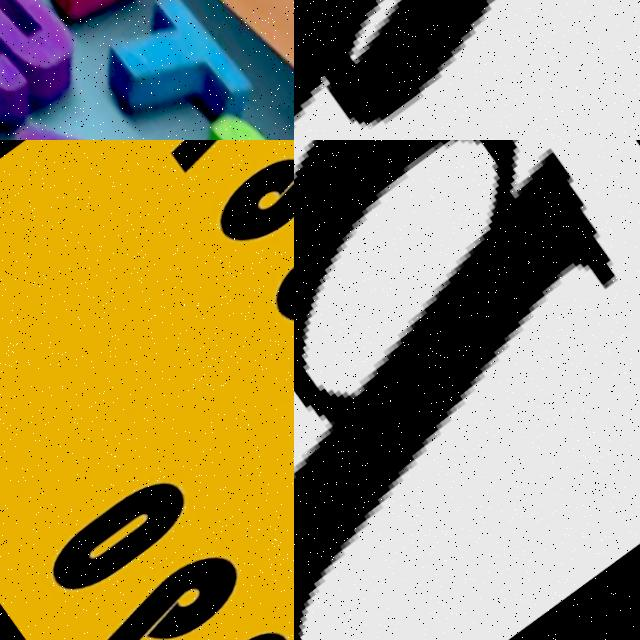0: (29, 432, 245, 620)
5: (247, 160, 294, 339)
6: (190, 140, 294, 273)
7: (132, 140, 294, 201)
8: (134, 580, 294, 640)
9: (294, 0, 640, 140), (79, 513, 290, 640)
C: (129, 81, 294, 140)
G: (0, 74, 245, 140)
P: (294, 140, 622, 640)
S: (0, 0, 108, 140)
T: (63, 0, 286, 140)
